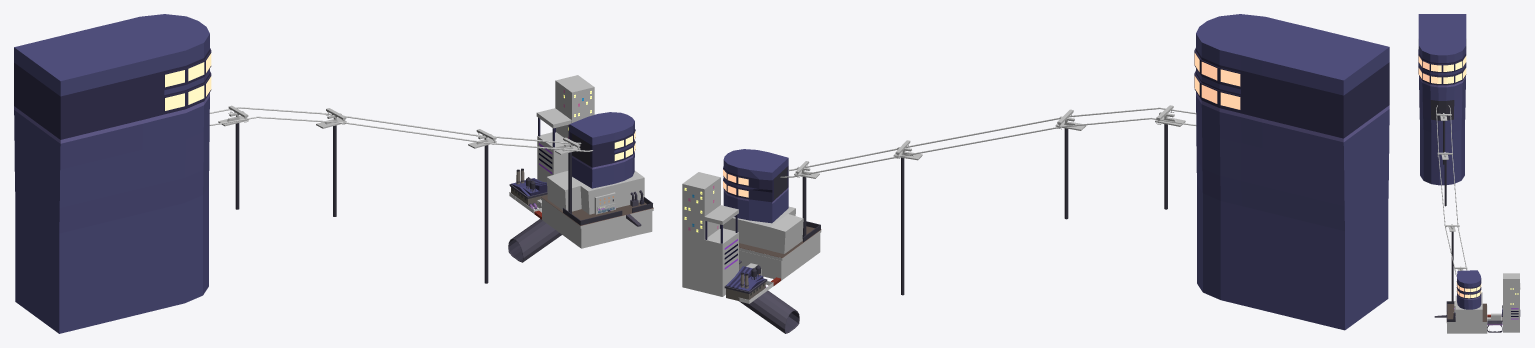
File: EXT_BuckleCity.fbx
3 views of the same model, side by side, from view 1: azimuth 30°, elevation 25°; view 2: azimuth 150°, elevation 25°; view 3: azimuth 270°, elevation 25° (orthographic). The views are drawn at different scales.
Parts seen in each view (by area): view 1: Cube.4418, WMBigLift.001, Building.008, Building.050, Walls.027, NurbsCircle.004, Cylinder.149, Cube.569, Cylinder.955, Building.019, Cube.376; view 2: Cube.4418, Building.008, WMBigLift.001, Building.050, NurbsCircle.004, Walls.027, Cylinder.149, Cube.569, Windows.006, Building.019, Cylinder.955; view 3: Cube.4418, Building.008, WMBigLift.001, NurbsCircle.004, Walls.027, Building.050, Cube.376, Cylinder.955, Windows.006, Cylinder.956, Cube.677.
Boxes of the visible parts, left/top/right/bottom form: Cube.4418: left=14, top=14, right=211, bottom=333; WMBigLift.001: left=569, top=112, right=635, bottom=188; Building.008: left=537, top=75, right=594, bottom=182; Building.050: left=546, top=170, right=644, bottom=214; Walls.027: left=542, top=201, right=652, bottom=248; NurbsCircle.004: left=209, top=107, right=593, bottom=151; Cylinder.149: left=508, top=218, right=561, bottom=262; Cube.569: left=509, top=168, right=547, bottom=209; Cylinder.955: left=484, top=145, right=488, bottom=283; Building.019: left=536, top=108, right=571, bottom=173; Cube.376: left=541, top=195, right=653, bottom=225; Cube.4418: left=1194, top=14, right=1389, bottom=330; Building.008: left=682, top=172, right=738, bottom=296; WMBigLift.001: left=723, top=149, right=788, bottom=223; Building.050: left=723, top=206, right=803, bottom=253; NurbsCircle.004: left=780, top=107, right=1196, bottom=177; Walls.027: left=739, top=233, right=820, bottom=280; Cylinder.149: left=739, top=270, right=799, bottom=333; Cube.569: left=724, top=266, right=767, bottom=301; Windows.006: left=684, top=185, right=718, bottom=237; Building.019: left=704, top=205, right=738, bottom=269; Cylinder.955: left=901, top=158, right=904, bottom=295; Cube.4418: left=1418, top=14, right=1466, bottom=185; Building.008: left=1503, top=273, right=1519, bottom=332; WMBigLift.001: left=1456, top=270, right=1481, bottom=309; NurbsCircle.004: left=1436, top=105, right=1467, bottom=276; Walls.027: left=1447, top=305, right=1487, bottom=333; Building.050: left=1455, top=292, right=1482, bottom=321; Cube.376: left=1446, top=303, right=1486, bottom=321; Cylinder.955: left=1451, top=231, right=1453, bottom=301; Windows.006: left=1510, top=280, right=1518, bottom=304; Cylinder.956: left=1444, top=160, right=1446, bottom=206; Cube.677: left=1487, top=320, right=1502, bottom=325.
Bounding box in the file's own units: 84956 × 47225 × 23558.
